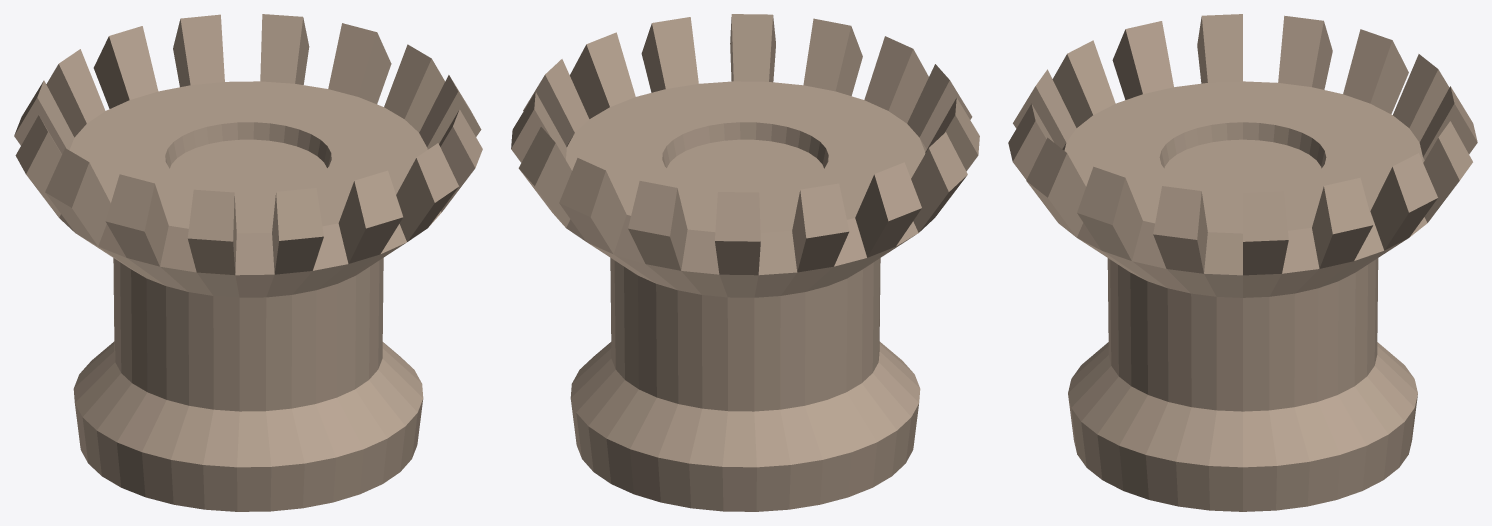
The model's file is tower.glb.
The picture shows the model from 3 angles, left to right: view 1: azimuth 30°, elevation 25°; view 2: azimuth 150°, elevation 25°; view 3: azimuth 270°, elevation 25°; orthographic projection.
Visible parts, largest first — view 1: Tower; view 2: Tower; view 3: Tower.
Boxes of the visible parts, x1=… form: Tower: x1=14, y1=14, x2=482, y2=511; Tower: x1=511, y1=14, x2=979, y2=511; Tower: x1=1008, y1=14, x2=1477, y2=511.
Size of the model in its own units: 3.47 by 2.75 by 3.47.
